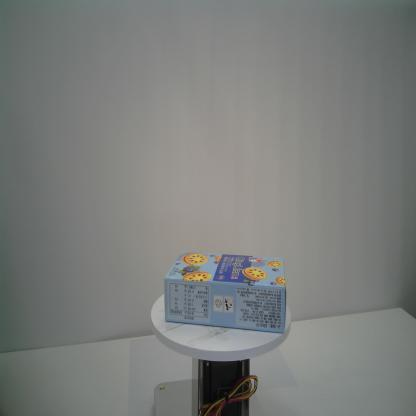Dessert: (164, 252, 286, 334)
